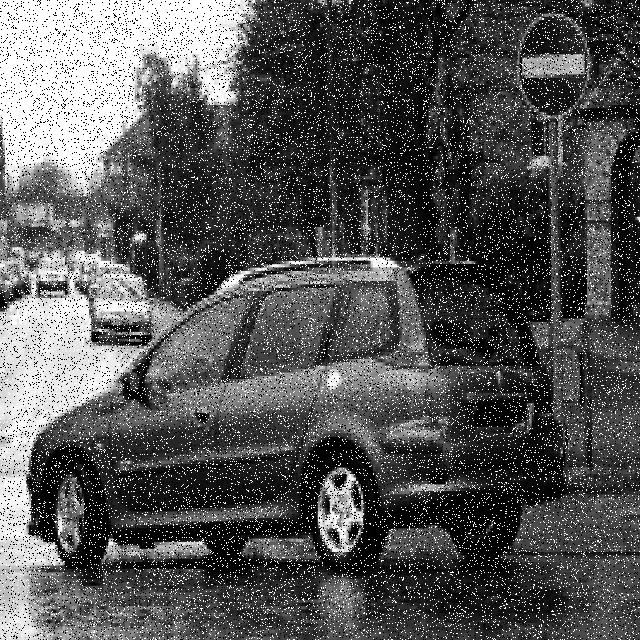no entry: (520, 13, 587, 112)
